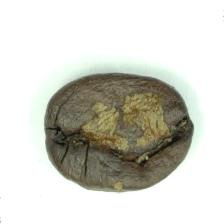NG: (71, 88, 180, 171)
